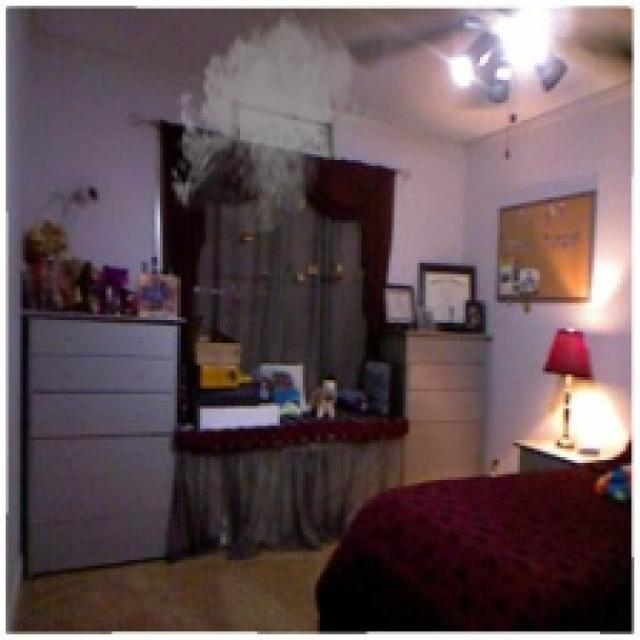Smoke: (166, 8, 374, 240)
